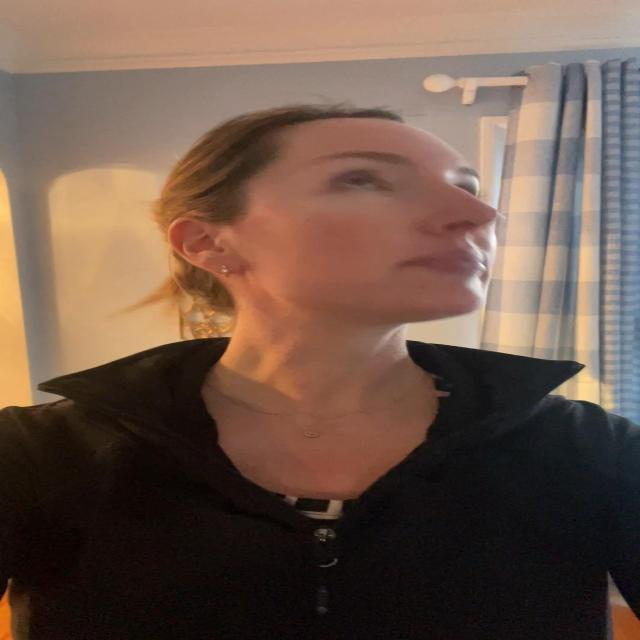no-helmet: (160, 112, 493, 358)
